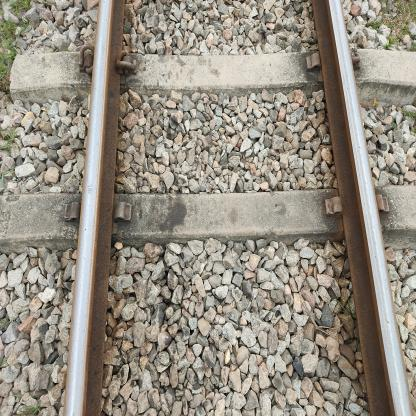Defective: (106, 194, 154, 244), (47, 194, 89, 245), (373, 189, 410, 241), (298, 43, 331, 92), (321, 186, 347, 240)
